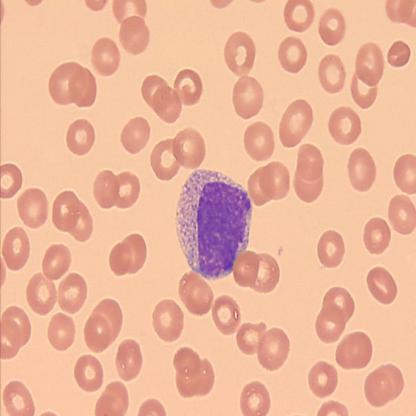Myelocyte: (176, 173, 250, 276)
